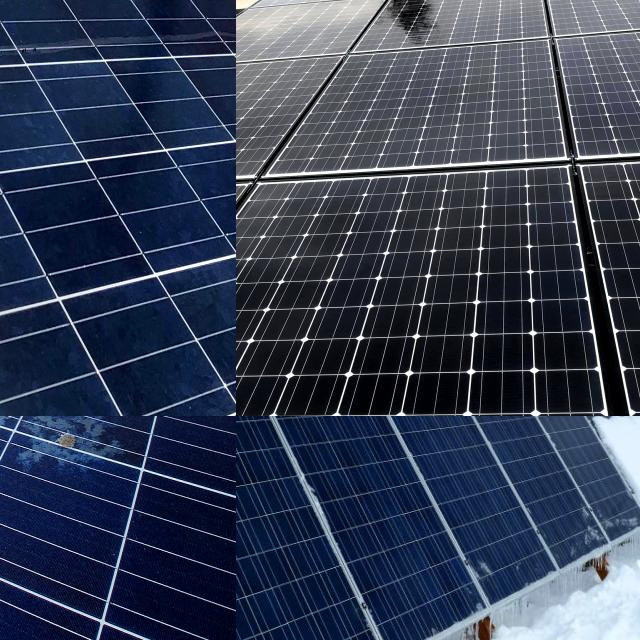bird: (23, 416, 126, 471), (0, 416, 35, 467)
crack: (236, 286, 405, 390), (358, 62, 558, 145), (339, 342, 534, 416), (378, 234, 534, 324), (385, 0, 595, 61), (252, 200, 376, 275), (408, 0, 555, 31)
dust: (0, 0, 114, 212), (36, 297, 236, 416), (142, 0, 236, 253)
panel: (589, 416, 640, 527)
